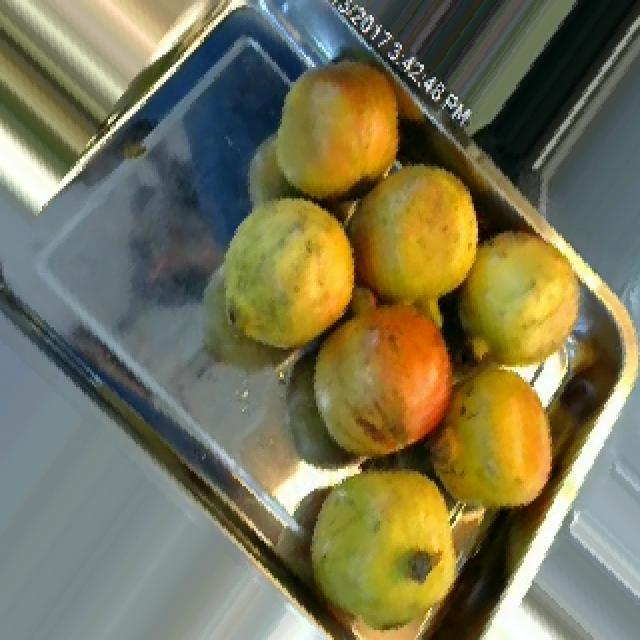fruit: (286, 441, 502, 640), (288, 276, 486, 487), (322, 134, 506, 332), (204, 171, 378, 375), (410, 335, 580, 543), (252, 34, 428, 226)
